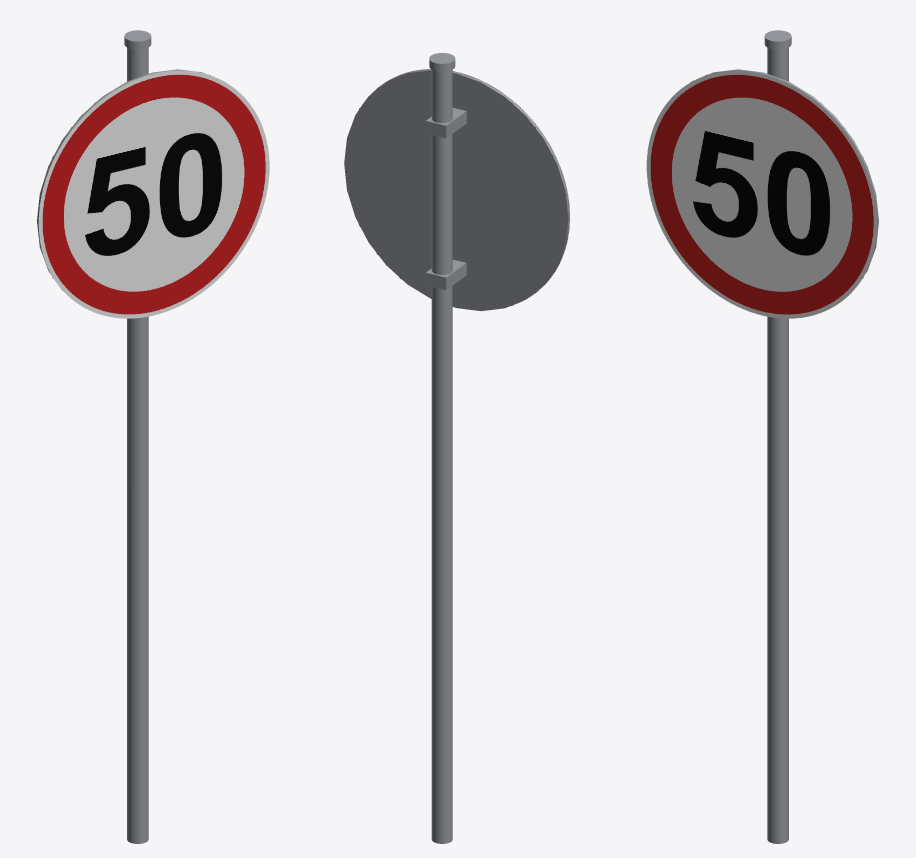
Rendered from sign_speed50kph.dae.
3 renders of one model, left to right at view 1: azimuth 30°, elevation 25°; view 2: azimuth 150°, elevation 25°; view 3: azimuth 330°, elevation 25°, orthographic. The views are drawn at different scales.
Parts seen in each view (by area): view 1: sign128, sign48, sign4; view 2: sign128, sign48, sign4; view 3: sign128, sign48, sign4.
Part boxes in pixels (<box>): sign128: <box>37,30,269,843</box>; sign48: <box>52,30,210,843</box>; sign4: <box>70,30,150,843</box>; sign128: <box>344,53,569,843</box>; sign48: <box>344,53,567,843</box>; sign4: <box>344,53,567,843</box>; sign128: <box>646,30,878,843</box>; sign48: <box>705,30,863,843</box>; sign4: <box>765,30,845,843</box>.
Bounding box in the file's own units: 0.9 × 0.1275 × 2.47.
Materials: 2 (1 with a texture image).
